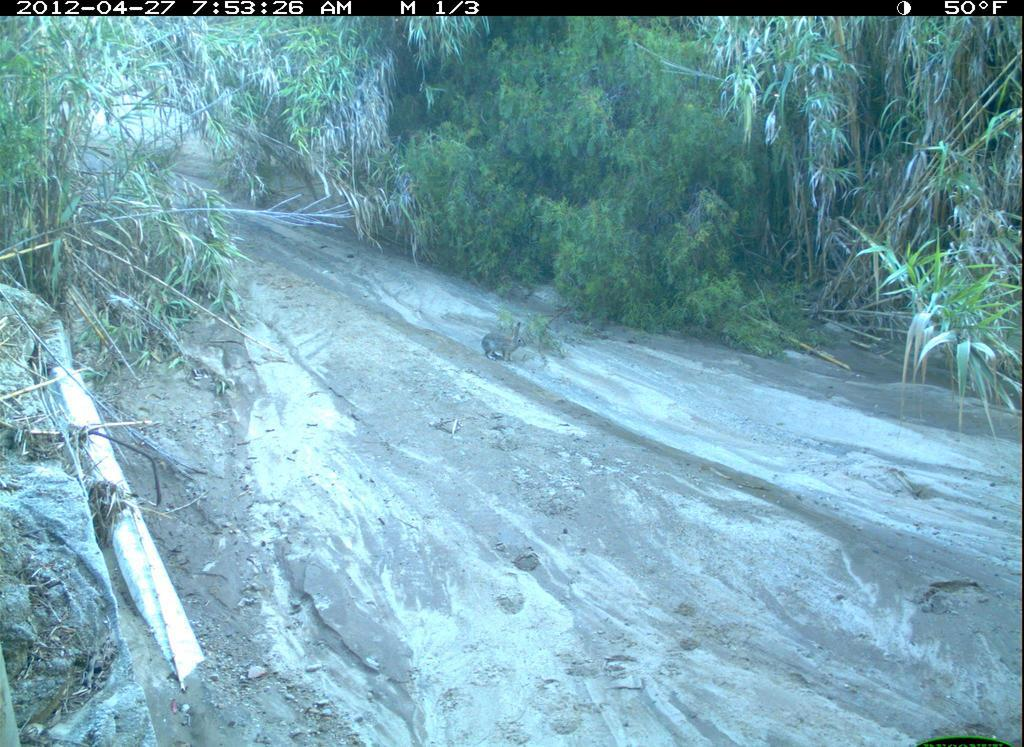rabbit: (958, 633, 1024, 733)
